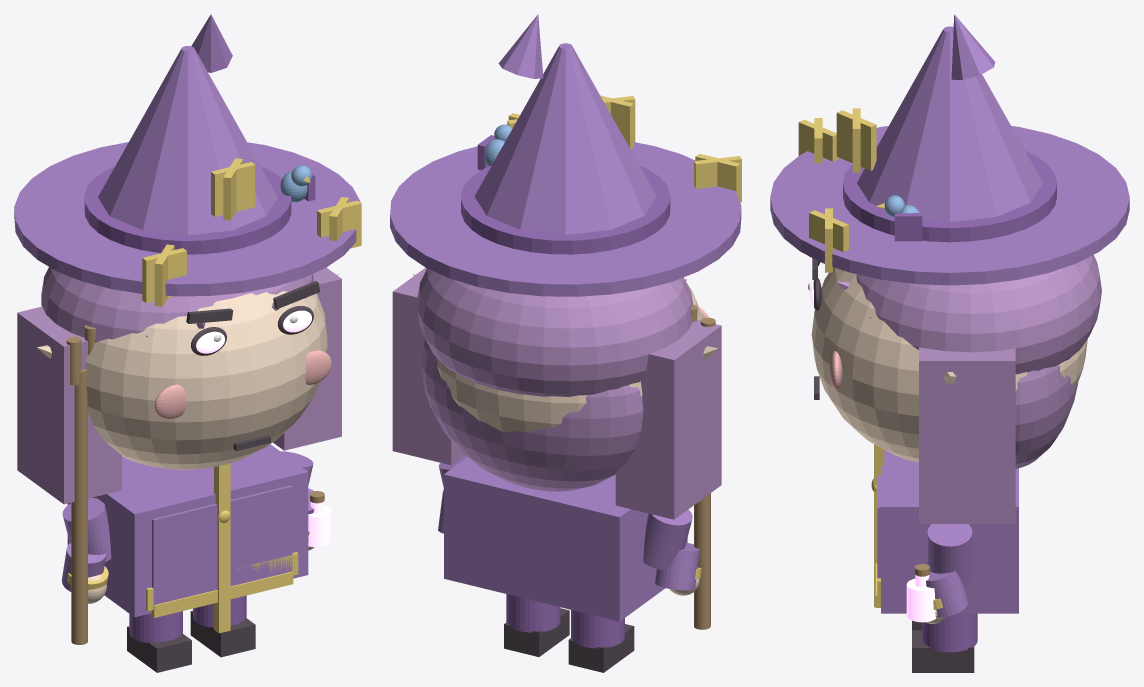
The model's file is witch.glb.
3 renders of one model, left to right at view 1: azimuth 30°, elevation 25°; view 2: azimuth 150°, elevation 25°; view 3: azimuth 270°, elevation 25°, orthographic. The views are drawn at different scales.
Visible parts, largest first — view 1: Head, HatBrim, HatCone, Coat, HairSide_L, CoatFront, HairCap, HatBand, HairSide_R, Staff, RobeTrim, RobeHem (+20 smaller); view 2: HatBrim, HairCap, Coat, HatCone, HairSide_L, HairBack, HairSide_R, HatBand, Head, UpperArm_L, Staff, Leg_R (+8 smaller); view 3: HatBrim, HatCone, HairCap, HairSide_R, Head, Coat, HatBand, HairBack, UpperArm_R, Leg_R, Shoe_R, HatTip (+8 smaller).
Boxes of the visible parts, <box> form: Head: <box>85,291,327,469</box>; HatBrim: <box>14,142,360,296</box>; HatCone: <box>98,46,277,235</box>; Coat: <box>67,444,308,617</box>; HairSide_L: <box>17,306,121,504</box>; CoatFront: <box>152,485,292,604</box>; HairCap: <box>41,267,313,342</box>; HatBand: <box>84,166,291,254</box>; HairSide_R: <box>273,267,341,450</box>; Staff: <box>71,369,87,644</box>; RobeTrim: <box>214,463,230,633</box>; RobeHem: <box>149,571,293,617</box>; HatBrim: <box>390,142,741,296</box>; HairCap: <box>417,268,692,396</box>; Coat: <box>444,457,687,621</box>; HatCone: <box>474,43,656,234</box>; HairSide_L: <box>615,319,721,519</box>; HairBack: <box>421,338,643,491</box>; HairSide_R: <box>392,267,464,465</box>; HatBand: <box>461,165,670,254</box>; Head: <box>437,282,703,432</box>; UpperArm_L: <box>643,509,692,569</box>; Staff: <box>694,493,710,629</box>; Leg_R: <box>506,594,560,632</box>; HatBrim: <box>770,126,1129,285</box>; HatCone: <box>857,26,1042,222</box>; HairCap: <box>856,255,1101,374</box>; HairSide_R: <box>919,347,1015,523</box>; Head: <box>811,267,1087,462</box>; Coat: <box>881,450,1018,613</box>; HatBand: <box>843,150,1056,242</box>; HairBack: <box>1015,364,1077,468</box>; UpperArm_R: <box>927,524,972,585</box>; Leg_R: <box>922,613,977,652</box>; Shoe_R: <box>912,630,974,672</box>; HatTip: <box>951,14,995,79</box>.
Bounding box in the file's own units: 1 × 1.98 × 0.9959.
